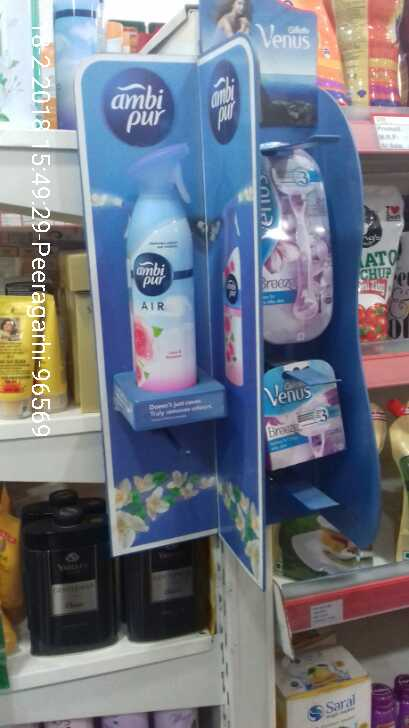beauty: (251, 144, 341, 341), (258, 351, 360, 461)
home: (115, 135, 216, 390)
